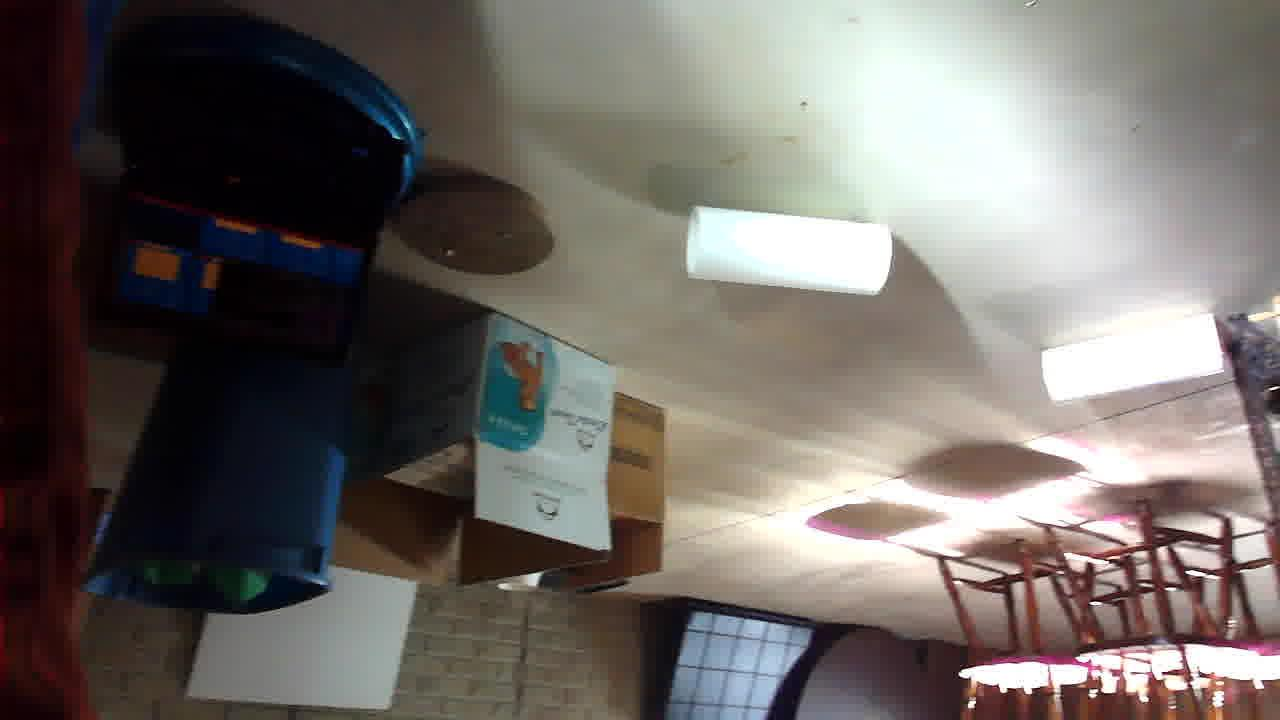coral: (389, 425, 594, 513), (58, 319, 238, 406)
